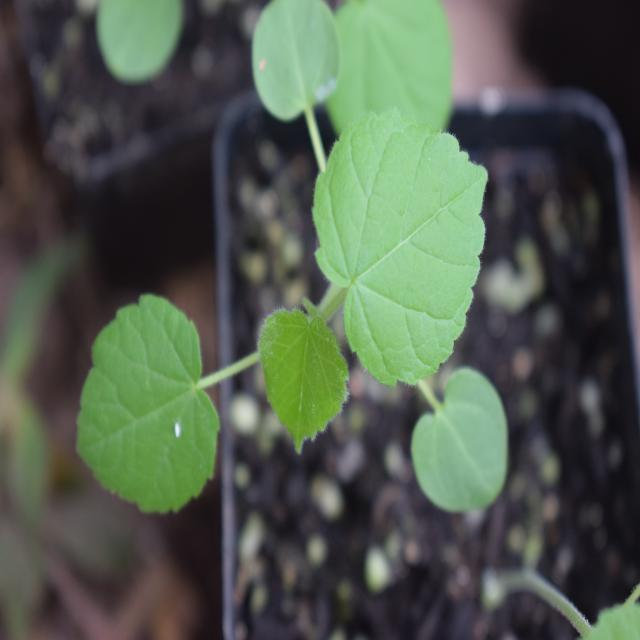abutilon theophrasti: (100, 121, 522, 542)
